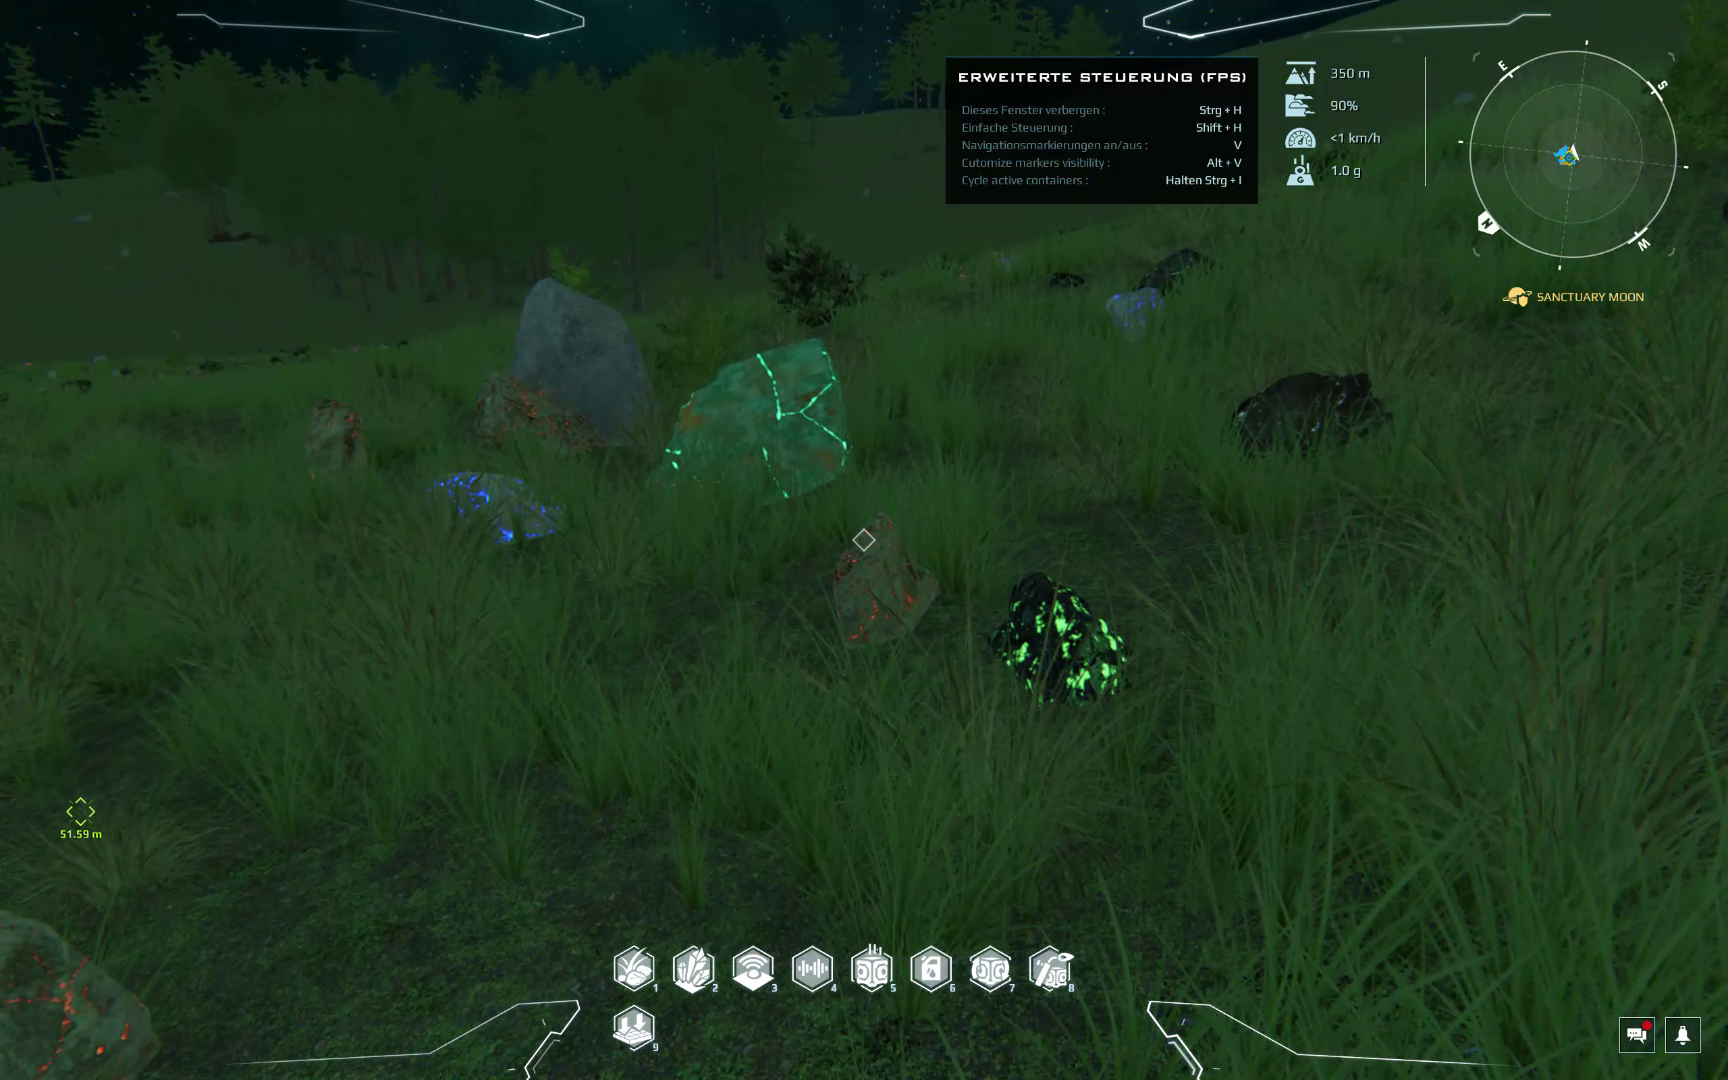Ore: (642, 333, 857, 505), (1, 906, 165, 1080), (985, 569, 1141, 705), (824, 509, 945, 651), (1222, 370, 1398, 457), (473, 373, 613, 462), (434, 467, 574, 550), (294, 396, 372, 499), (1137, 245, 1223, 297), (1103, 286, 1169, 335), (1043, 268, 1096, 294)
